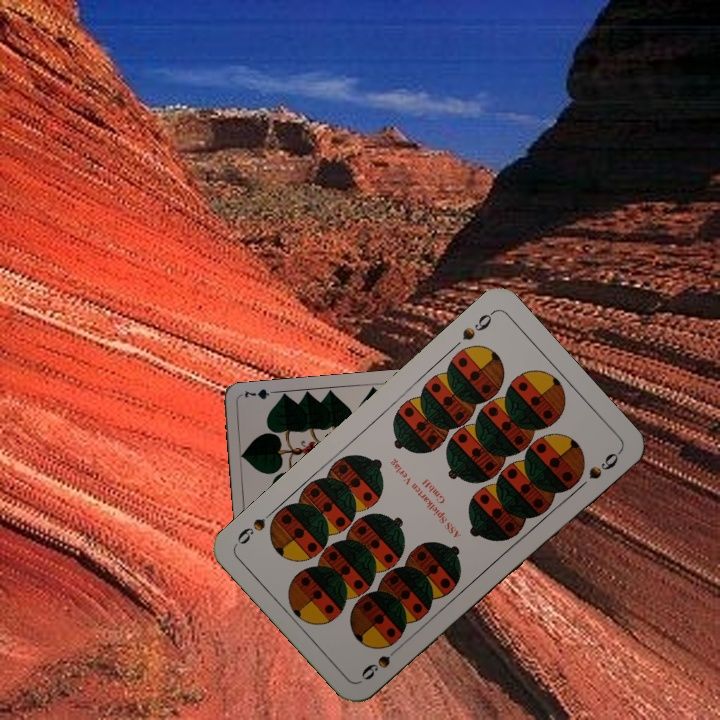S9: (357, 639, 406, 683), (458, 307, 497, 343)
